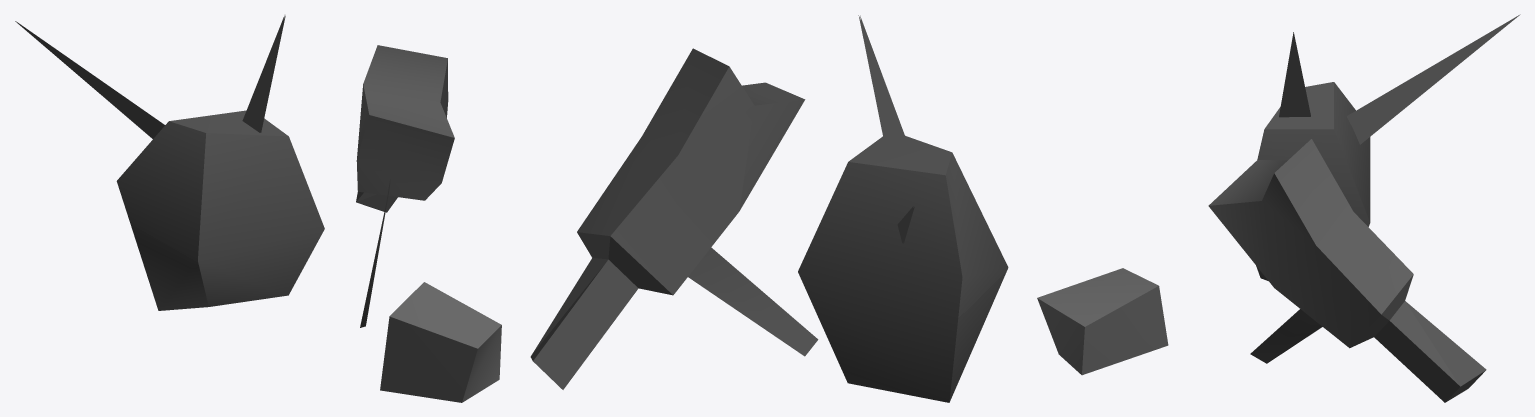
Rendered from spacejunk.glb.
3 views of the same model, side by side, from view 1: azimuth 30°, elevation 25°; view 2: azimuth 150°, elevation 25°; view 3: azimuth 270°, elevation 25° (orthographic). The views are drawn at different scales.
Parts seen in each view (by area): view 1: group_13; view 2: group_13; view 3: group_13.
Boxes of the visible parts, bbox=[...] form: group_13: bbox=[15, 15, 501, 402]; group_13: bbox=[530, 15, 1008, 402]; group_13: bbox=[1037, 14, 1520, 402].
Size of the model in its own units: 617 by 544 by 777.
Materials: 1 (1 with a texture image).
